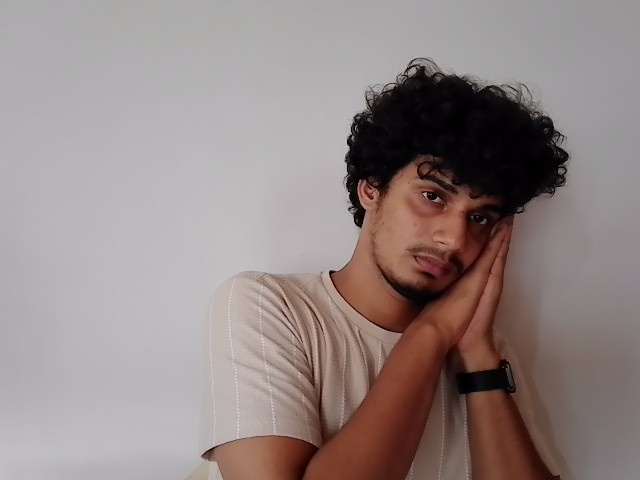sleep: (403, 205, 522, 355)
